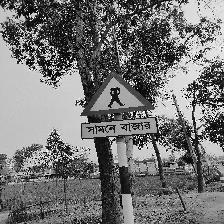Market-in-front: (80, 72, 160, 140)
